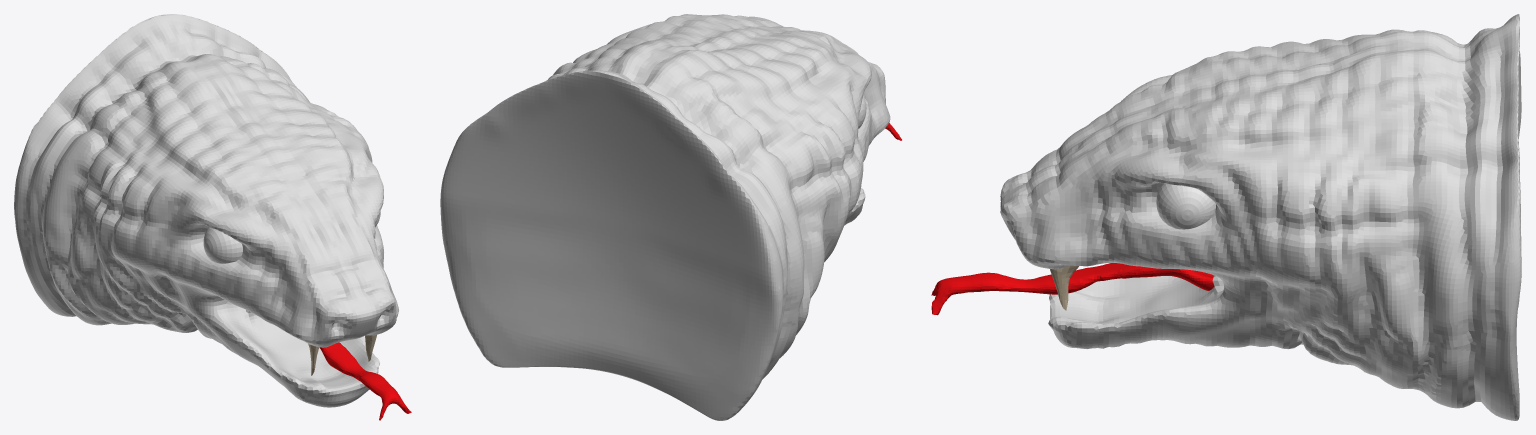
Rendered from snek5.fbx.
3 renders of one model, left to right at view 1: azimuth 30°, elevation 25°; view 2: azimuth 150°, elevation 25°; view 3: azimuth 270°, elevation 25°, orthographic. The views are drawn at different scales.
Parts seen in each view (by area): view 1: Snake_head, Tongue, Eyes, Teeth; view 2: Snake_head; view 3: Snake_head, Tongue, Eyes, Teeth.
Part boxes in pixels (box(x1,y1,x2,y2)): Snake_head: box(14, 14, 398, 407); Tongue: box(319, 342, 411, 420); Eyes: box(203, 211, 380, 263); Teeth: box(308, 335, 376, 375); Snake_head: box(440, 14, 890, 420); Snake_head: box(1000, 14, 1521, 420); Tongue: box(931, 263, 1214, 315); Eyes: box(1156, 183, 1215, 229); Teeth: box(1050, 265, 1078, 310).
Bounding box in the file's own units: 191 × 172 × 271.
